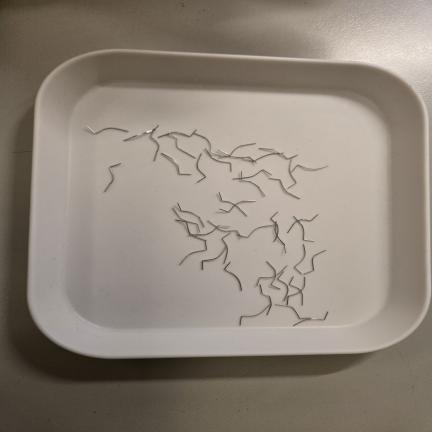probe: (161, 153, 191, 175), (303, 250, 326, 274), (224, 261, 242, 290), (104, 163, 121, 192), (294, 244, 306, 274), (87, 126, 128, 134), (196, 153, 206, 183)
